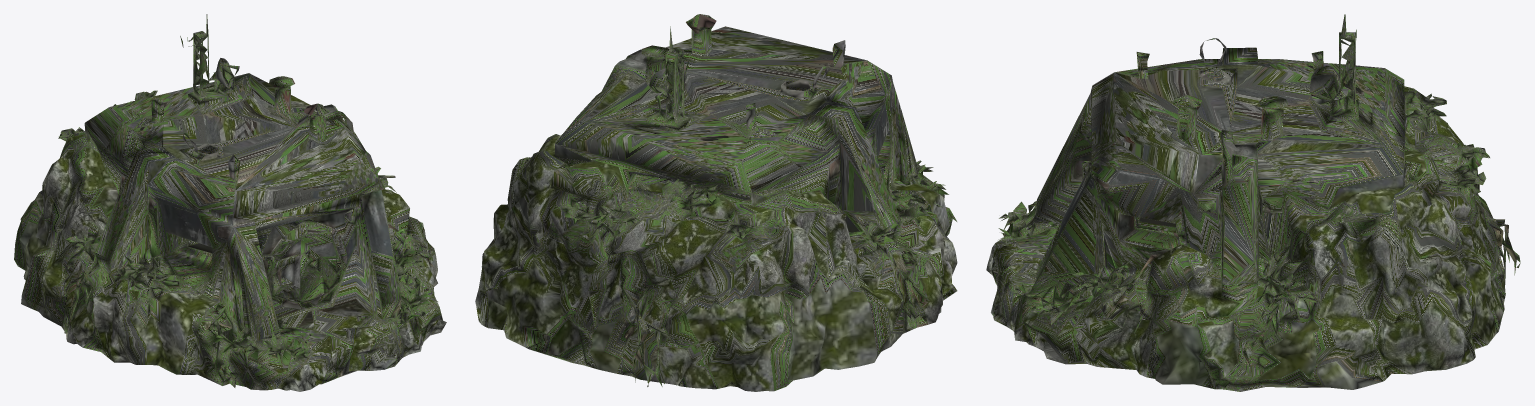
The model's file is pilliovault.lod1.glb.
The picture shows the model from 3 angles, left to right: view 1: azimuth 30°, elevation 25°; view 2: azimuth 150°, elevation 25°; view 3: azimuth 270°, elevation 25°; orthographic projection. The views are drawn at different scales.
Parts seen in each view (by area): view 1: pilliovault-centred; view 2: pilliovault-centred; view 3: pilliovault-centred.
Part boxes in pixels (x1,y1,x2,y2): pilliovault-centred: (14, 14, 446, 391); pilliovault-centred: (475, 14, 957, 391); pilliovault-centred: (986, 14, 1520, 391).
Bounding box in the file's own units: 27.87 × 19 × 31.93.
1 material, 1 textured.
